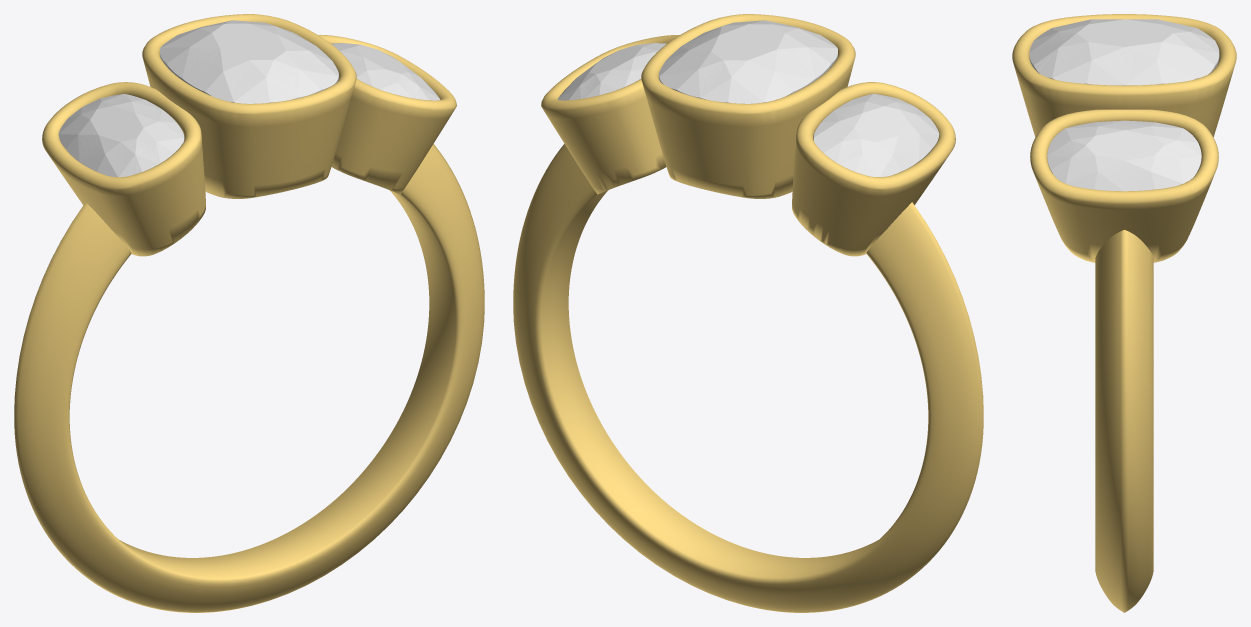
Rendered from diamond-cushion-yellowgold-bezelset-knifeedge-3stone.glb.
3 views of the same model, side by side, from view 1: azimuth 30°, elevation 25°; view 2: azimuth 150°, elevation 25°; view 3: azimuth 270°, elevation 25° (orthographic).
Visible parts, largest first — view 1: metal.002, stone.001, side.002, side.003; view 2: metal.002, stone.001, side.002, side.003; view 3: metal.002, stone.001, side.003.
Boxes of the visible parts, bbox=[...] form: metal.002: bbox=[14, 14, 484, 612]; stone.001: bbox=[160, 20, 338, 103]; side.002: bbox=[58, 94, 184, 177]; side.003: bbox=[331, 43, 440, 100]; metal.002: bbox=[513, 14, 983, 612]; stone.001: bbox=[659, 20, 837, 103]; side.002: bbox=[813, 94, 939, 177]; side.003: bbox=[557, 43, 666, 100]; metal.002: bbox=[1012, 14, 1236, 612]; stone.001: bbox=[1029, 19, 1219, 85]; side.003: bbox=[1047, 120, 1201, 191].
Size of the model in its own units: 20.1 by 23.03 by 8.45.
